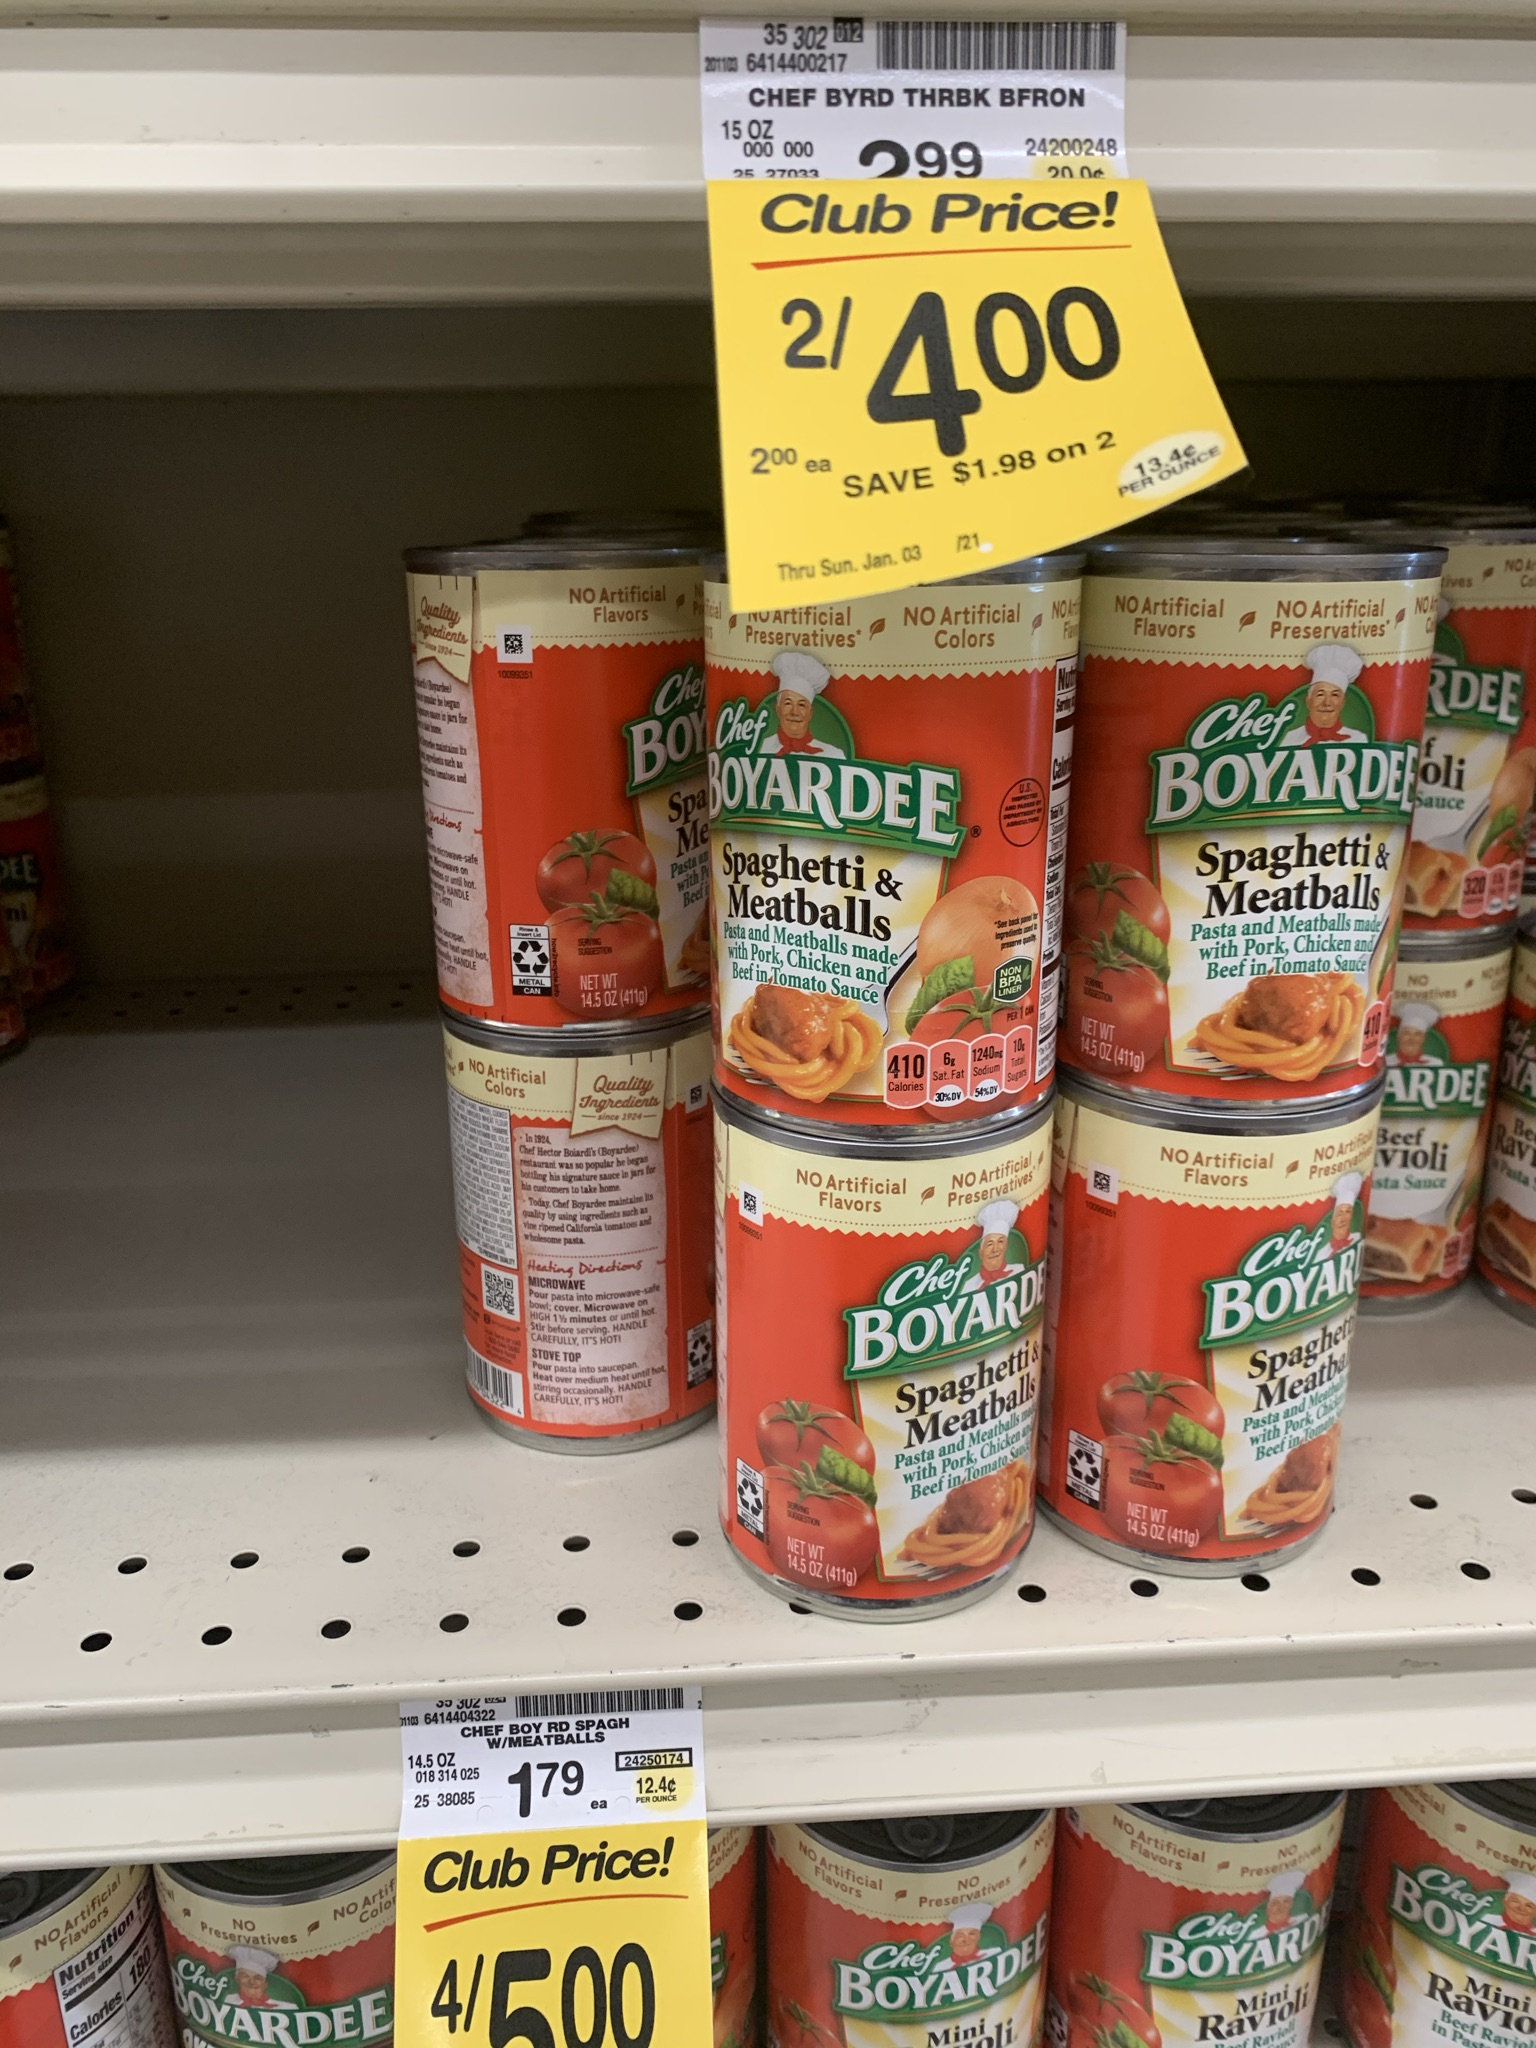can: (703, 558, 1084, 1134), (1097, 556, 1436, 1103), (736, 1147, 1025, 1609), (445, 543, 705, 1018), (1104, 1121, 1339, 1546), (478, 1026, 712, 1413)
